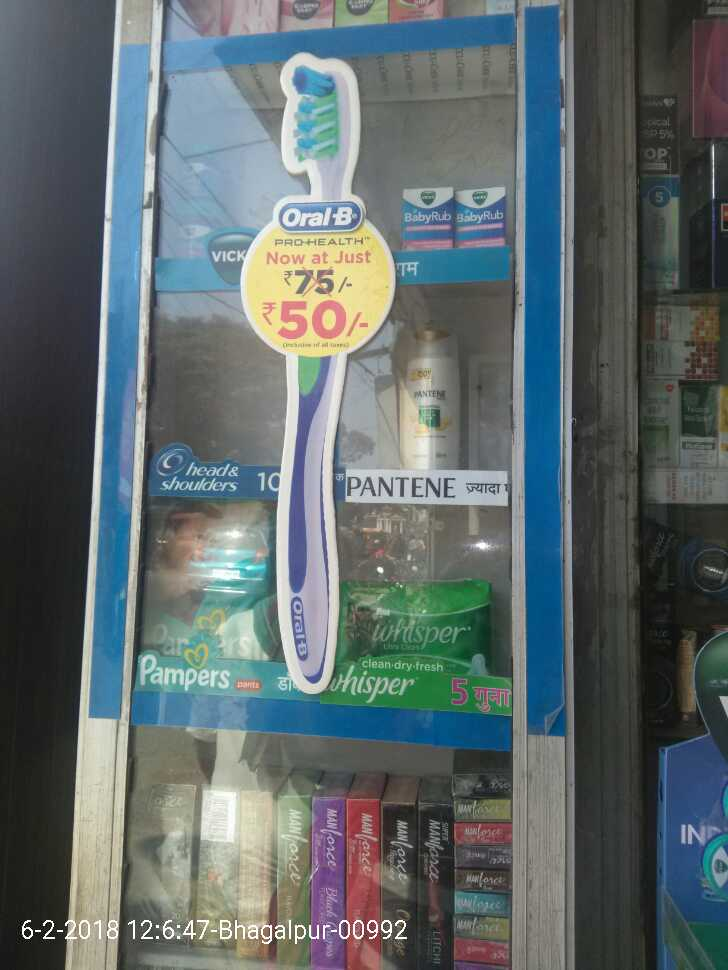vicks: (397, 182, 513, 263)
